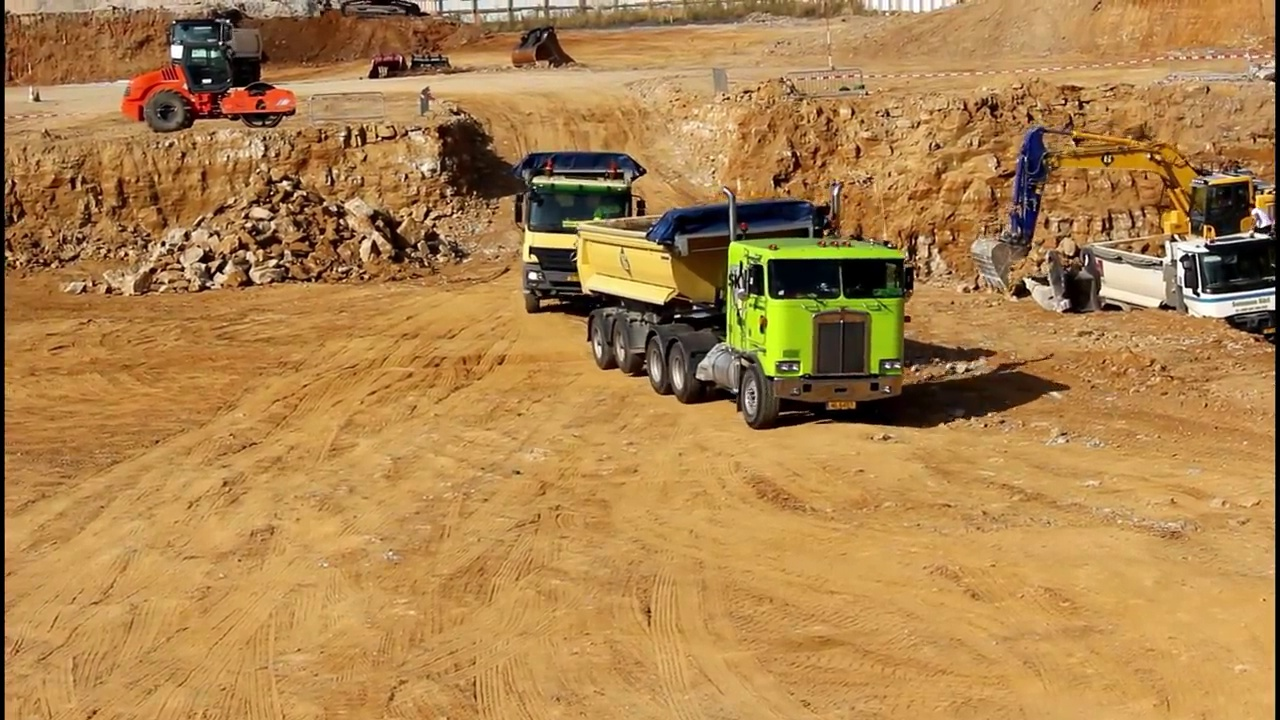compactor: (122, 43, 299, 133)
excavator: (969, 119, 1280, 299)
truck: (567, 183, 927, 433), (1078, 226, 1280, 369), (512, 145, 646, 317), (161, 12, 272, 99)
worker: (1244, 200, 1279, 245)
